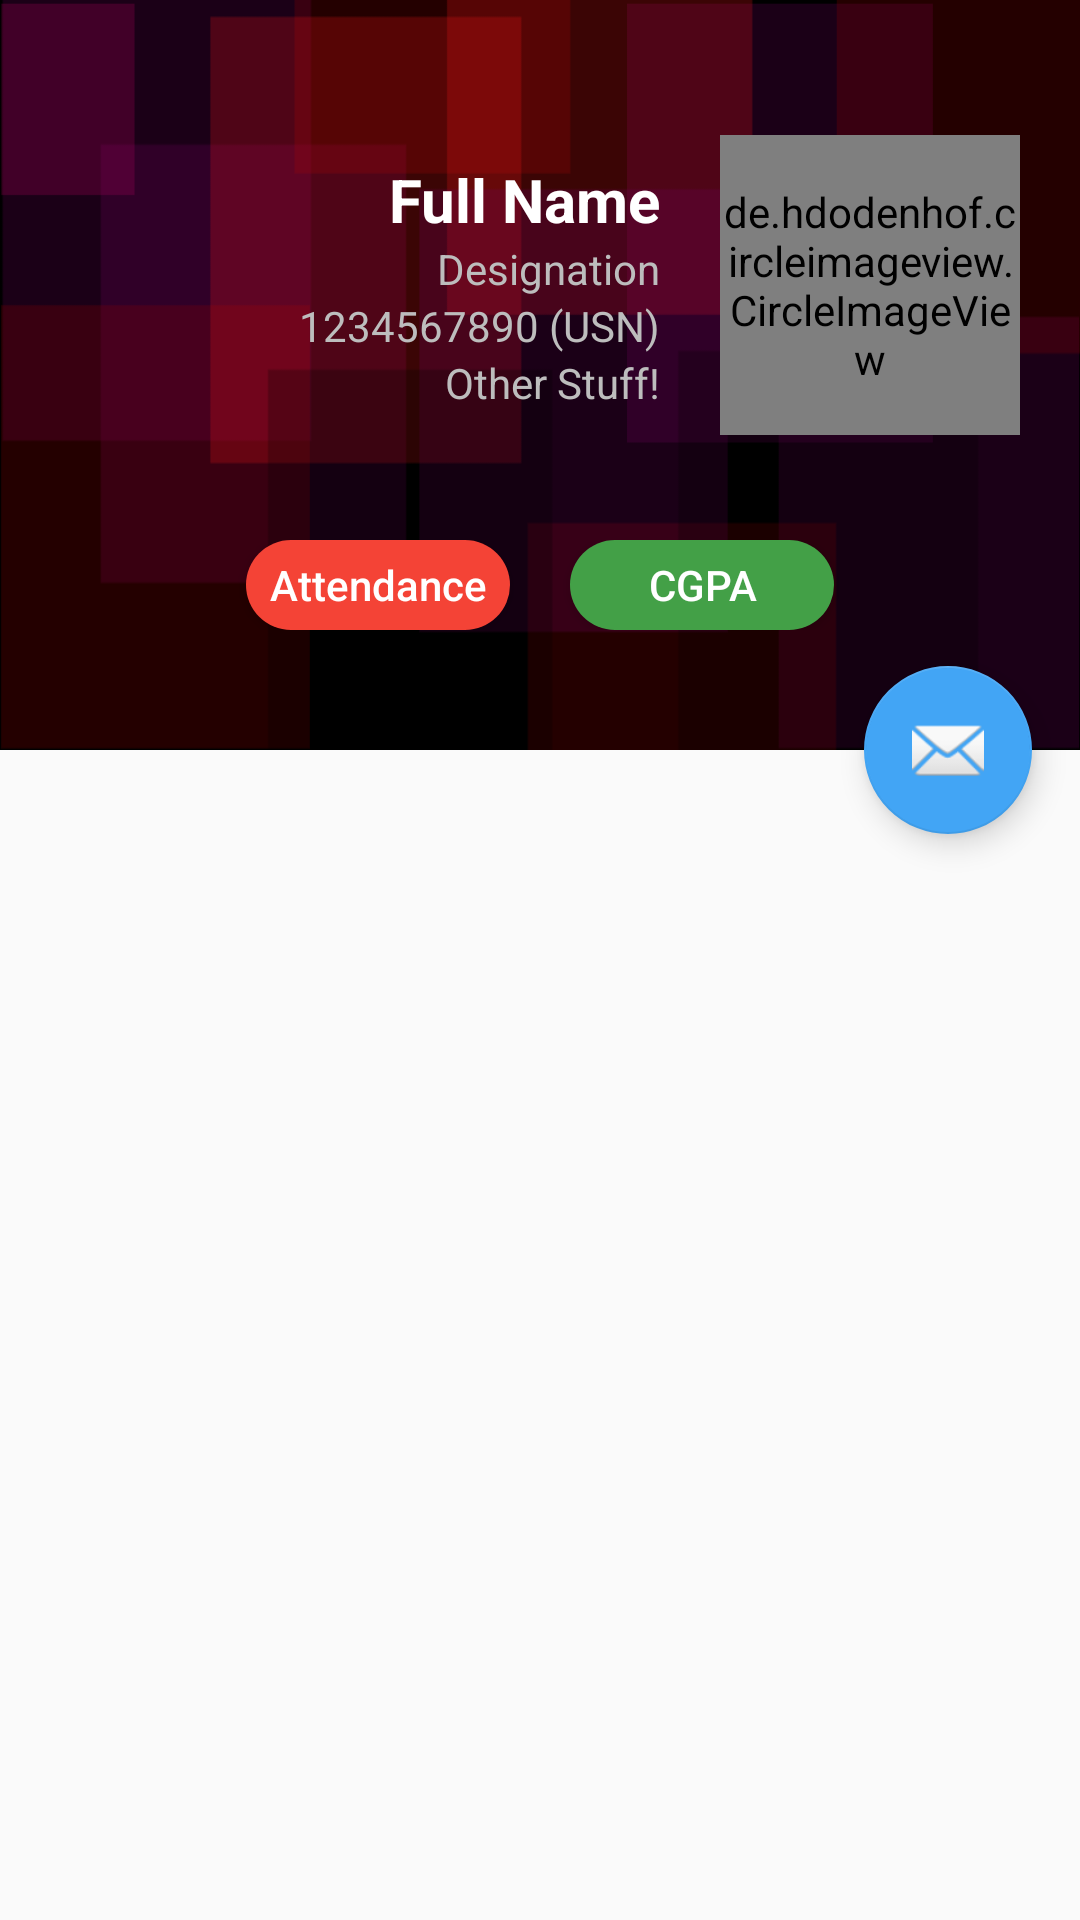

Named icons in this screenshot (1080px×1920px) and their centers, [x,y]:
email: [948,750]
